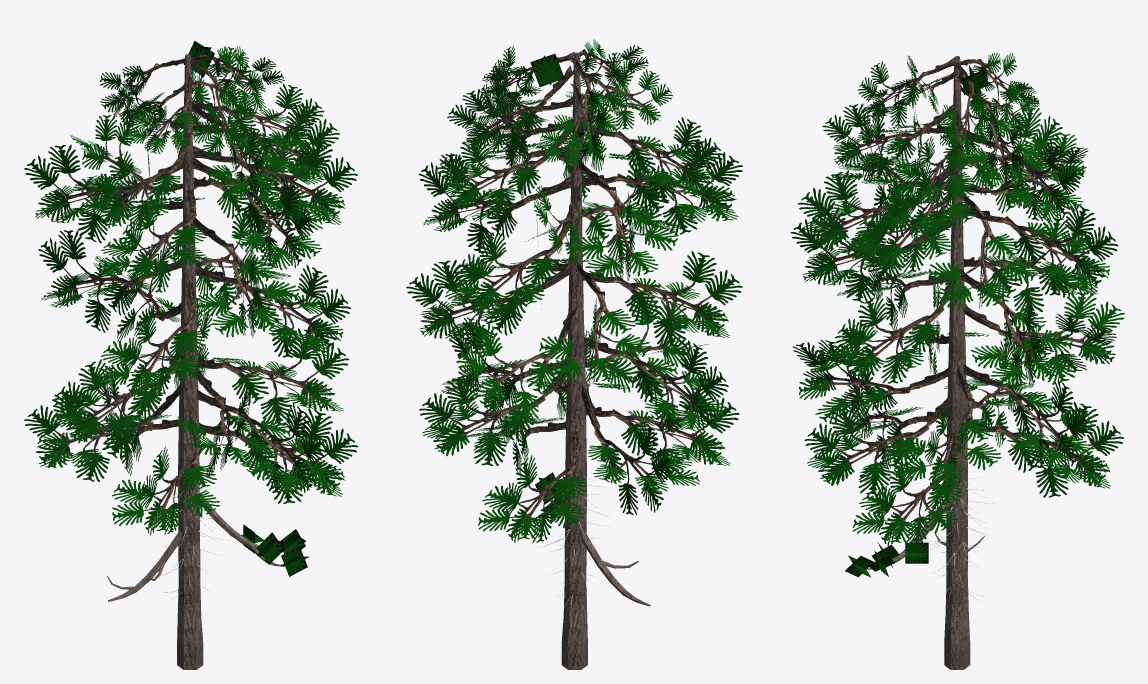
File: Evergreen.fbx
The picture shows the model from 3 angles, left to right: view 1: azimuth 30°, elevation 25°; view 2: azimuth 150°, elevation 25°; view 3: azimuth 270°, elevation 25°; orthographic projection.
Parts seen in each view (by area): view 1: Pine Tree, Pine Branch 3.013, Pine Branch 3.017, Pine Branch 3.021, Pine Branch 3.037, Pine Branch 3.024, Pine Branch 3.004, Pine Branch 3.023, Pine Branch 3.034, Pine Branch 3.014, Pine Branch 3.006, Pine Branch 3.002 (+46 smaller); view 2: Pine Tree, Pine Branch 3.022, Pine Branch 3.060, Pine Branch 3.020, Pine Branch 3.010, Pine Branch 3.014, Pine Branch 3.035, Pine Branch 3.030, Pine Branch 3.018, Pine Branch 3.038, Pine Branch 3.001, Pine Branch 3.005 (+39 smaller); view 3: Pine Tree, Pine Branch 3.026, Pine Branch 3.028, Pine Branch 3.012, Pine Branch 3.009, Pine Branch 3.061, Pine Branch 3, Pine Branch 3.019, Pine Branch 3.017, Pine Branch 3.010, Pine Branch 3.033, Pine Branch 3.007 (+46 smaller).
Part boxes in pixels (x1,y1,x2,y2): Pine Tree: [177, 54, 203, 669]; Pine Branch 3.013: [197, 328, 349, 427]; Pine Branch 3.017: [195, 264, 350, 357]; Pine Branch 3.021: [38, 230, 181, 332]; Pine Branch 3.037: [193, 136, 357, 230]; Pine Branch 3.024: [190, 223, 299, 337]; Pine Branch 3.004: [112, 420, 219, 530]; Pine Branch 3.023: [98, 283, 205, 393]; Pine Branch 3.034: [24, 144, 182, 243]; Pine Branch 3.014: [54, 343, 184, 448]; Pine Branch 3.006: [199, 408, 358, 503]; Pine Branch 3.002: [24, 382, 180, 481]; Pine Tree: [561, 52, 587, 669]; Pine Branch 3.022: [586, 251, 742, 347]; Pine Branch 3.060: [456, 305, 572, 422]; Pine Branch 3.020: [539, 263, 651, 382]; Pine Branch 3.010: [419, 362, 568, 465]; Pine Branch 3.014: [584, 336, 728, 432]; Pine Branch 3.035: [568, 163, 678, 280]; Pine Branch 3.030: [582, 140, 742, 235]; Pine Branch 3.018: [406, 260, 569, 356]; Pine Branch 3.038: [581, 117, 723, 201]; Pine Branch 3.001: [478, 431, 586, 538]; Pine Branch 3.005: [586, 382, 739, 478]; Pine Tree: [944, 56, 970, 669]; Pine Branch 3.026: [961, 203, 1118, 295]; Pine Branch 3.028: [928, 191, 1039, 307]; Pine Branch 3.012: [891, 372, 1001, 485]; Pine Branch 3.009: [804, 391, 951, 494]; Pine Branch 3.061: [964, 292, 1124, 384]; Pine Branch 3: [967, 401, 1124, 497]; Pine Branch 3.019: [959, 277, 1072, 388]; Pine Branch 3.017: [835, 269, 953, 383]; Pine Branch 3.010: [963, 364, 1089, 469]; Pine Branch 3.033: [798, 165, 951, 262]; Pine Branch 3.007: [852, 435, 961, 542].
Size of the model in its own units: 4961 by 9896 by 4980.
